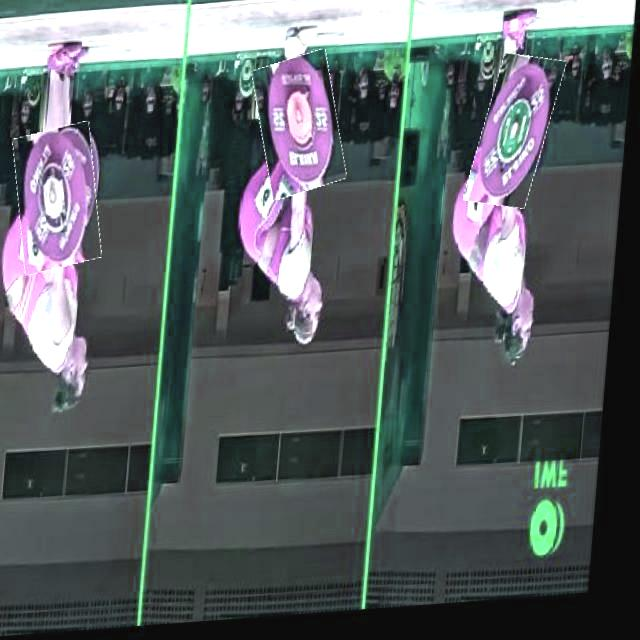barbell: (12, 123, 111, 275), (253, 55, 352, 203), (475, 61, 562, 218)
